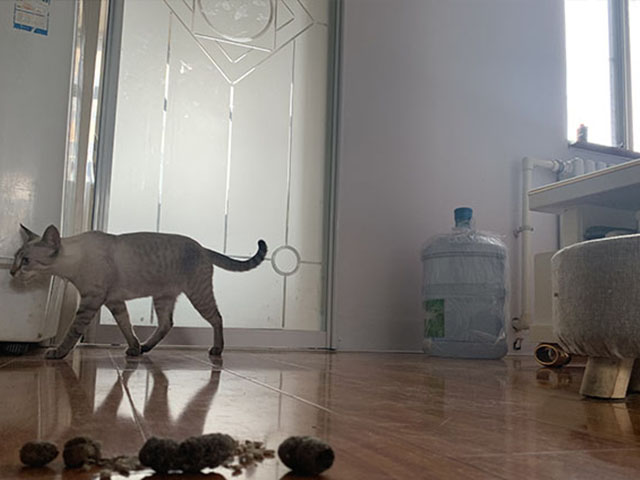feces: (137, 430, 239, 474), (276, 434, 336, 474), (62, 434, 103, 472), (16, 440, 58, 466)
stool: (549, 231, 640, 400)
